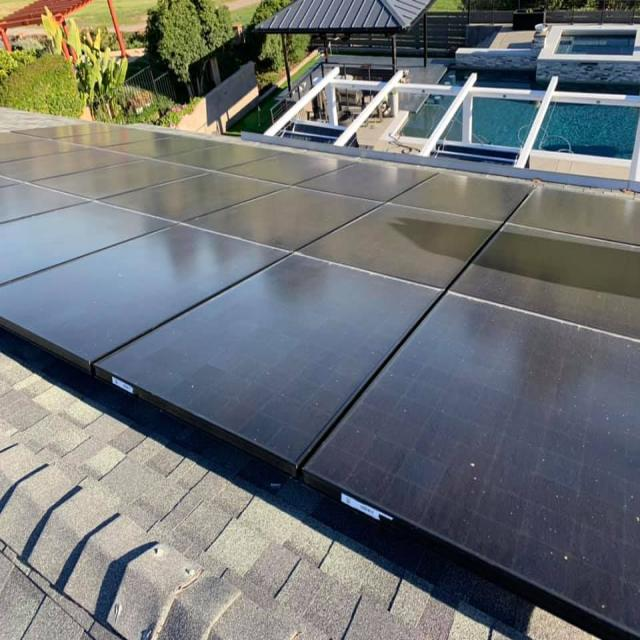dust-solar-panel: (0, 175, 449, 458), (308, 287, 640, 640)
